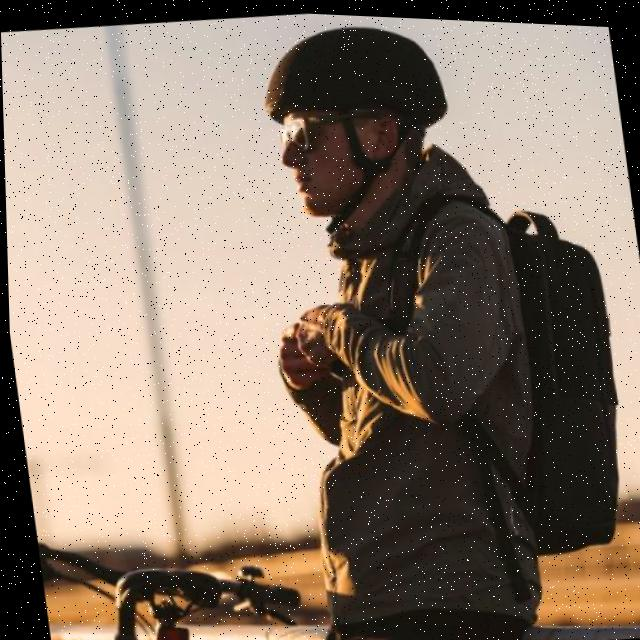illegal_helmet: (250, 9, 469, 244)
